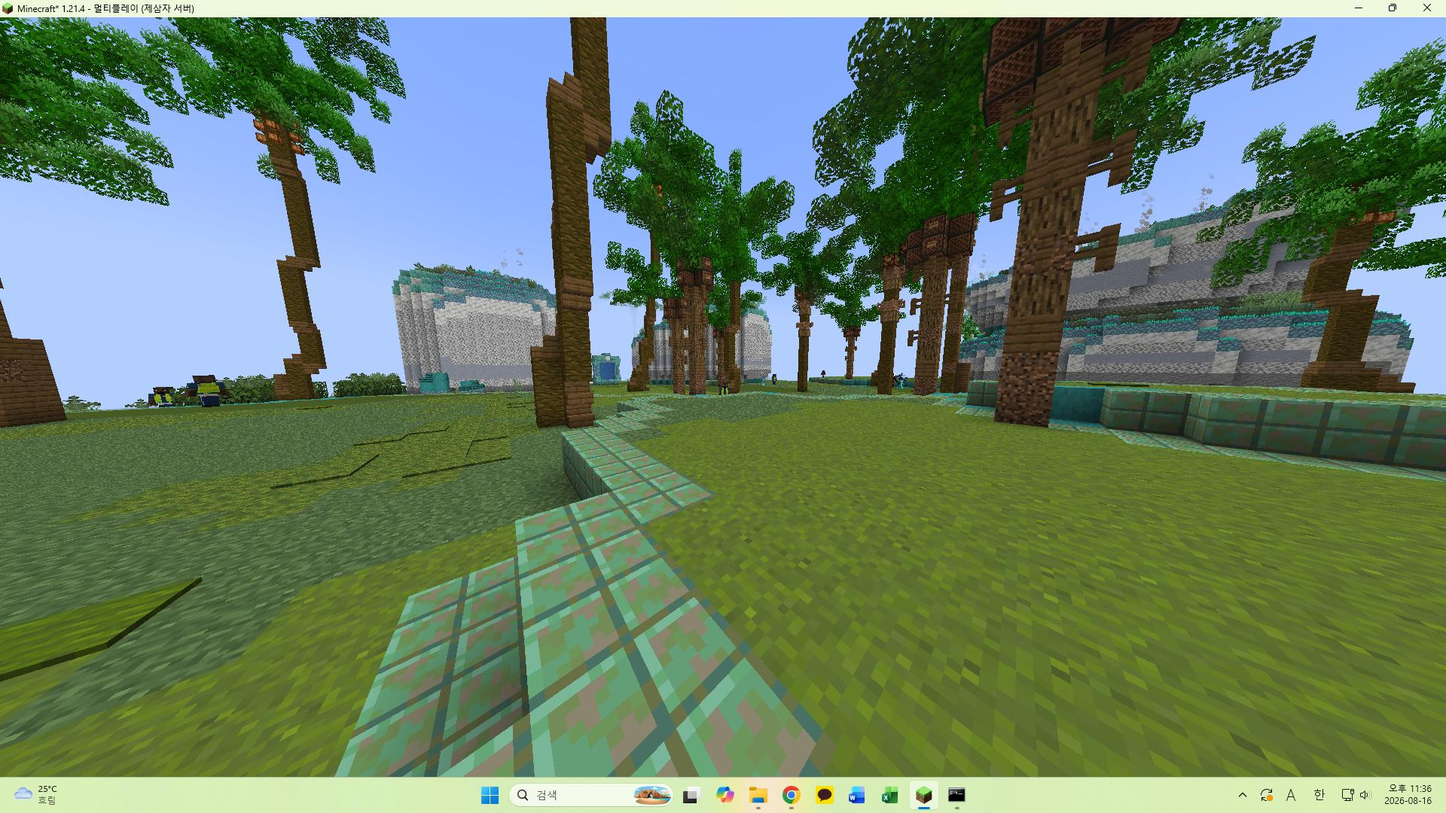Guardian: (187, 375, 227, 406), (148, 386, 176, 406), (718, 370, 734, 400)
